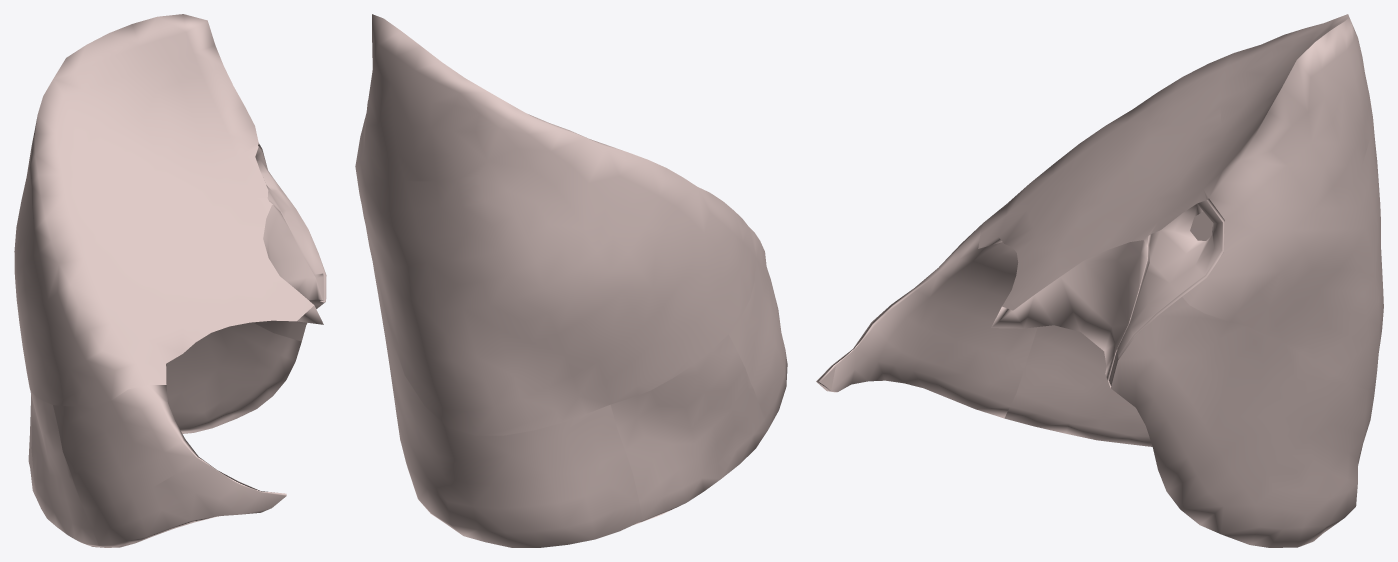
The model's file is lobo_inferior_direito.glb.
3 views of the same model, side by side, from view 1: azimuth 30°, elevation 25°; view 2: azimuth 150°, elevation 25°; view 3: azimuth 270°, elevation 25° (orthographic). The views are drawn at different scales.
Visible parts, largest first — view 1: lobo_inferior_direito; view 2: lobo_inferior_direito; view 3: lobo_inferior_direito.
Boxes of the visible parts, x1,y1,x2,y2 form: lobo_inferior_direito: (14, 14, 326, 547); lobo_inferior_direito: (355, 14, 787, 547); lobo_inferior_direito: (816, 14, 1383, 547).
Bounding box in the file's own units: 0.1301 × 0.1837 × 0.1786.
